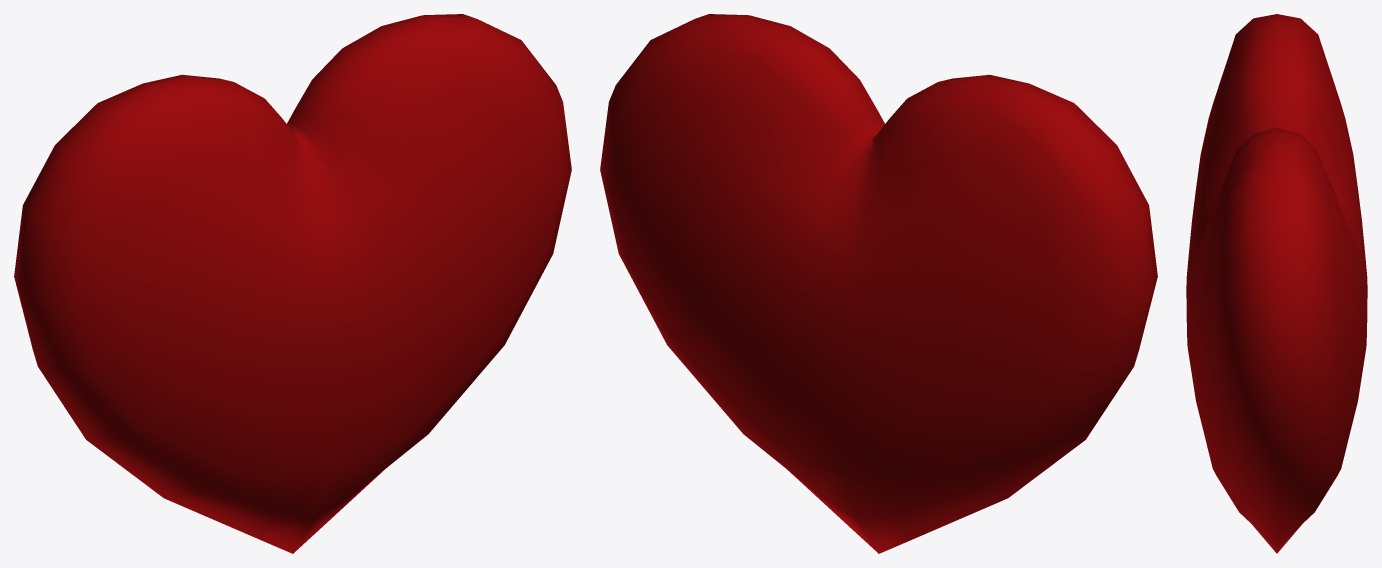
The model's file is uploads_files_5619366_Heart_Shape.fbx.
The picture shows the model from 3 angles, left to right: view 1: azimuth 30°, elevation 25°; view 2: azimuth 150°, elevation 25°; view 3: azimuth 270°, elevation 25°; orthographic projection. The views are drawn at different scales.
Visible parts, largest first — view 1: Heart Shape; view 2: Heart Shape; view 3: Heart Shape.
Part boxes in pixels (bbox=[...]): Heart Shape: bbox=[14, 14, 571, 553]; Heart Shape: bbox=[600, 14, 1157, 553]; Heart Shape: bbox=[1186, 14, 1367, 553].
Bounding box in the file's own units: 25.61 × 22.53 × 7.91.
